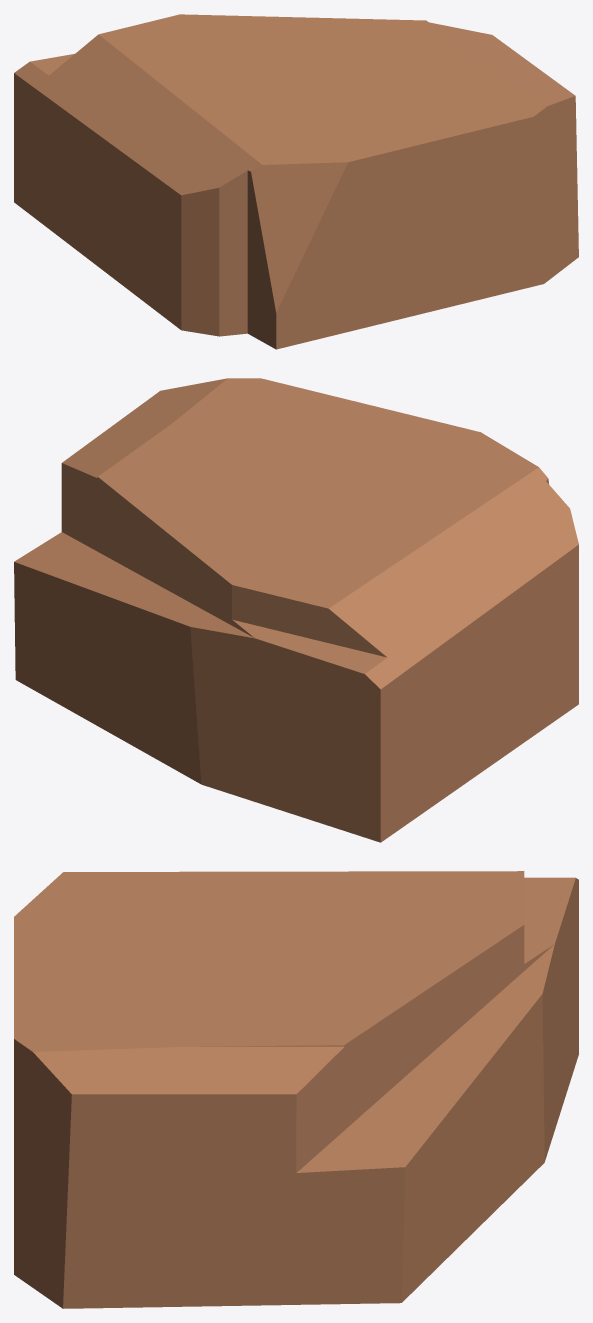
The model's file is DesertRockSmall_01.fbx.
3 views of the same model, one above another, from view 1: azimuth 30°, elevation 25°; view 2: azimuth 150°, elevation 25°; view 3: azimuth 270°, elevation 25° (orthographic). The views are drawn at different scales.
Visible parts, largest first — view 1: Cube.002; view 2: Cube.002; view 3: Cube.002.
Part boxes in pixels (bbox=[...]): Cube.002: bbox=[14, 14, 578, 349]; Cube.002: bbox=[14, 378, 578, 842]; Cube.002: bbox=[14, 871, 578, 1308].
Bounding box in the file's own units: 200 × 89.06 × 194.
